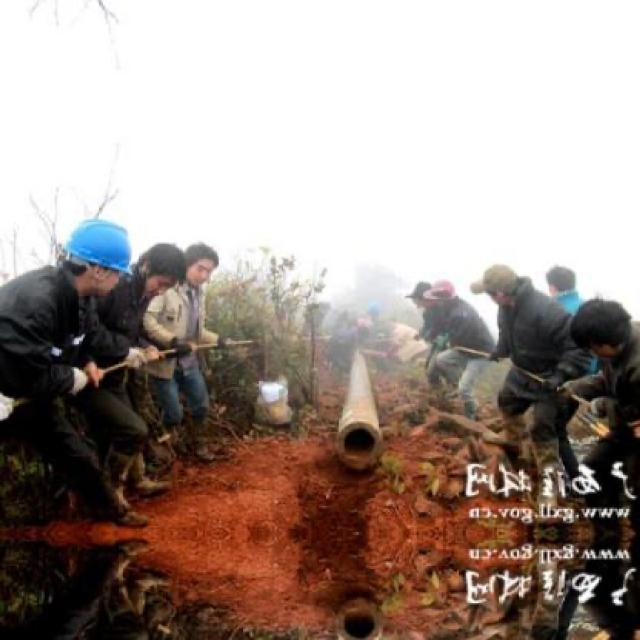con casco: (15, 220, 147, 300)
sin casco: (421, 261, 534, 328), (560, 276, 639, 355), (136, 238, 222, 309), (409, 259, 462, 307), (186, 240, 224, 280)
